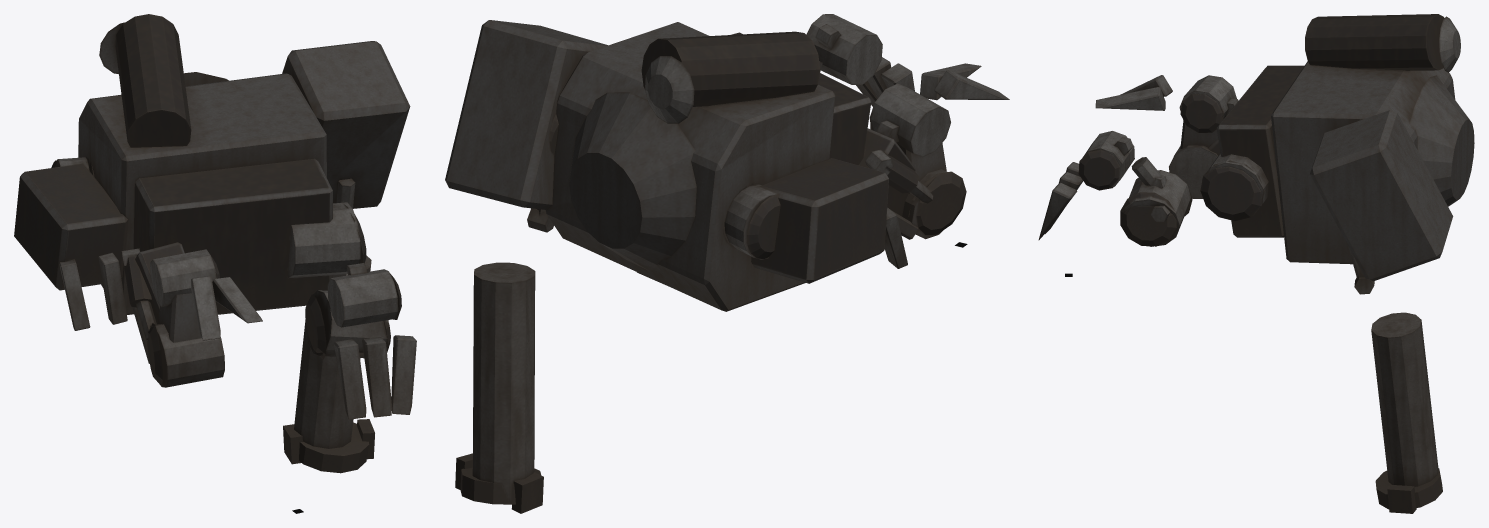
The model's file is chs_abyssal_wreck.fbx.
The picture shows the model from 3 angles, left to right: view 1: azimuth 30°, elevation 25°; view 2: azimuth 150°, elevation 25°; view 3: azimuth 270°, elevation 25°; orthographic projection. The views are drawn at different scales.
Parts seen in each view (by area): view 1: torso_bar, base_bar, thighR_bar, thighL_bar, footR_bar, shinL_bar, shinR_bar, footL_bar; view 2: torso_bar, thighL_bar, shinL_bar, shinR_bar, base_bar, footL_bar, footR_bar; view 3: torso_bar, thighR_bar, base_bar, shinR_bar, shinL_bar, thighL_bar, footL_bar, footR_bar.
Part boxes in pixels (<box>): torso_bar: <box>14,14,410,473</box>; base_bar: <box>133,158,332,314</box>; thighR_bar: <box>288,202,390,359</box>; thighL_bar: <box>121,242,224,387</box>; footR_bar: <box>334,335,416,419</box>; shinL_bar: <box>150,249,219,342</box>; shinR_bar: <box>327,263,401,357</box>; footL_bar: <box>191,275,262,340</box>; torso_bar: <box>445,20,907,513</box>; thighL_bar: <box>858,128,966,239</box>; shinL_bar: <box>869,83,950,193</box>; shinR_bar: <box>806,14,882,84</box>; base_bar: <box>731,32,871,165</box>; footL_bar: <box>920,63,1009,100</box>; footR_bar: <box>856,57,914,106</box>; torso_bar: <box>1271,14,1474,513</box>; thighR_bar: <box>1120,153,1268,246</box>; base_bar: <box>1216,65,1304,237</box>; shinR_bar: <box>1078,131,1166,190</box>; shinL_bar: <box>1179,75,1238,148</box>; thighL_bar: <box>1169,139,1220,198</box>; footL_bar: <box>1095,75,1172,110</box>; footR_bar: <box>1038,162,1082,240</box>.
Bounding box in the file's own units: 915 × 1163 × 1115.
Materials: 2 (2 with a texture image).
